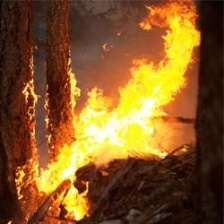fire: (49, 110, 130, 164), (160, 7, 199, 98), (38, 165, 90, 218), (131, 69, 160, 156), (22, 68, 38, 147)
